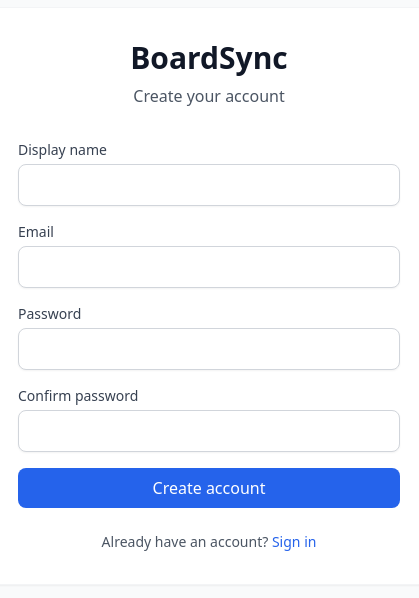
Scenario: RegisterPage › shows the server error for a duplicate e-mail
In the field labelled "Display name": (209, 185) [18,164,400,206], type "Ann"
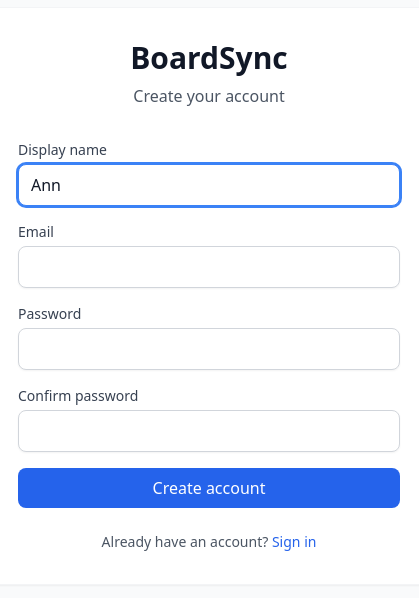
In the field labelled "Email": (209, 267) [18,246,400,288], type "ann@example.com"
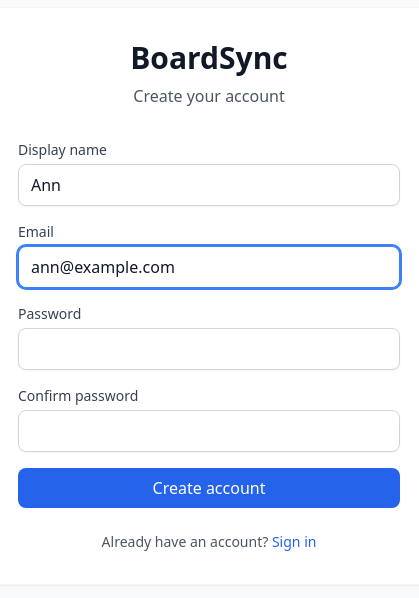
In the password field labelled "Password": (209, 349) [18,328,400,370], type "password1"
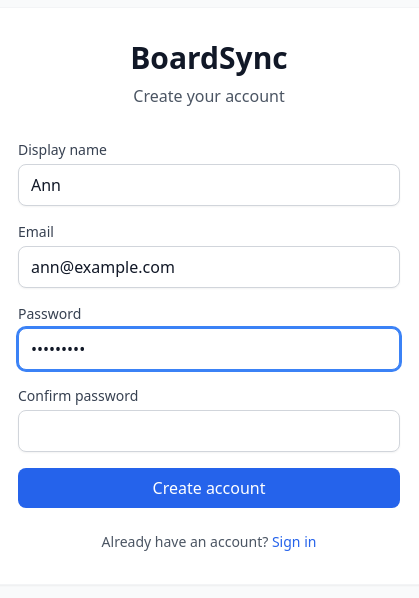
In the password field labelled "Confirm password": (209, 431) [18,410,400,452], type "password1"
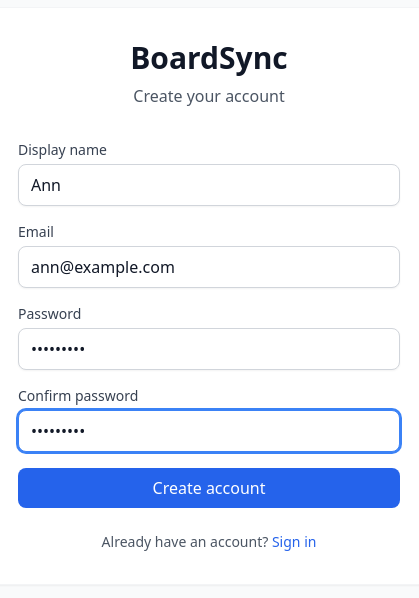
Click the button "Create account": click(209, 488) [18,468,400,508]
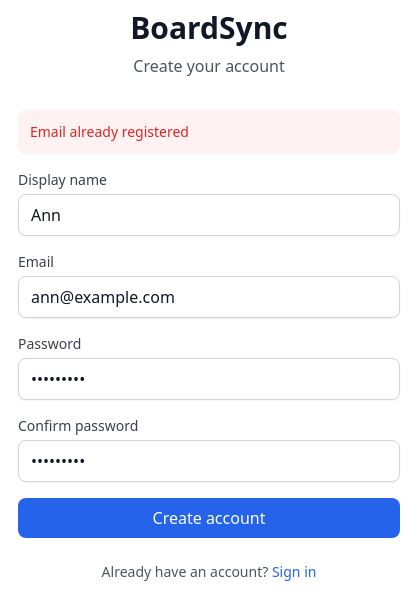
Result: the message reads "Email already registered" at [30,122,189,141]
